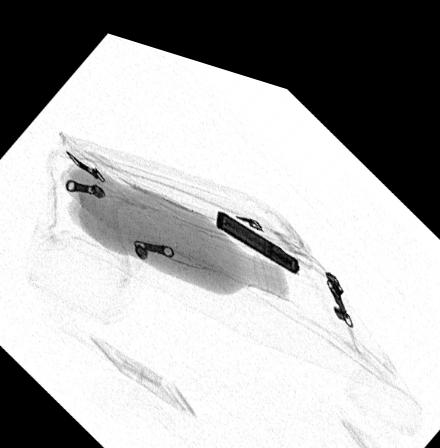Lighter: (216, 195, 300, 255)
